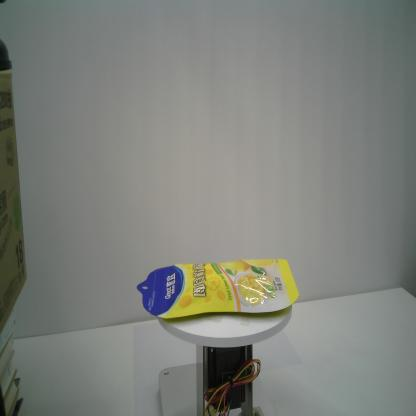Dried Fruit: (136, 258, 300, 320)
